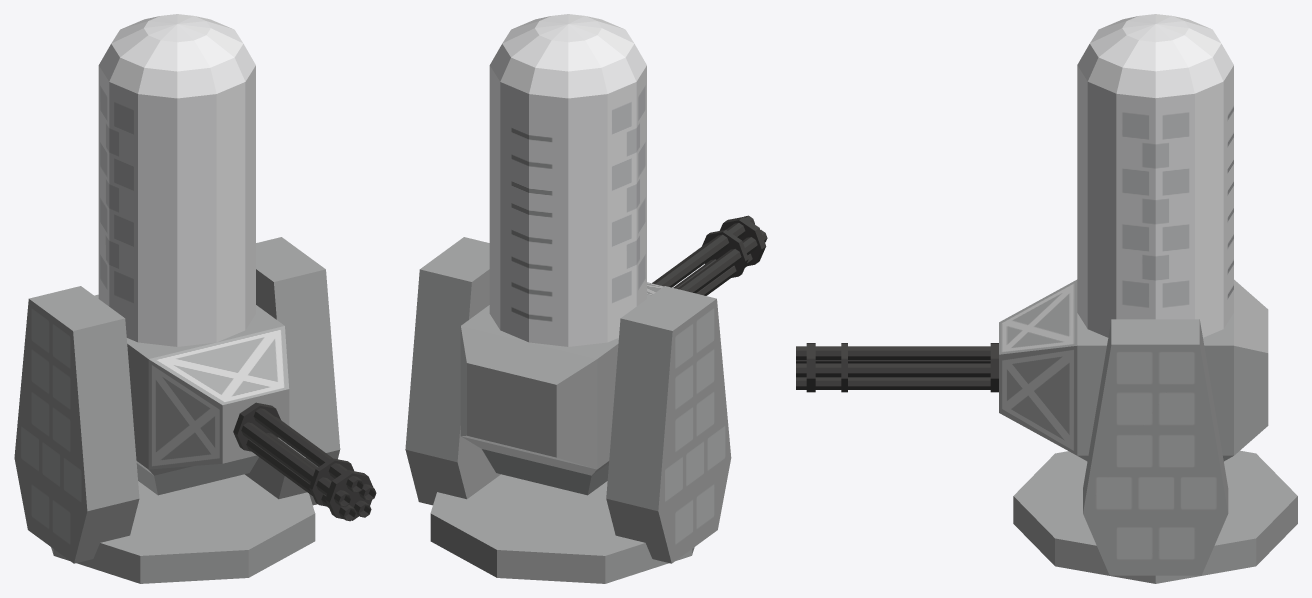
The model's file is Turret_11.fbx.
The picture shows the model from 3 angles, left to right: view 1: azimuth 30°, elevation 25°; view 2: azimuth 150°, elevation 25°; view 3: azimuth 270°, elevation 25°; orthographic projection.
Parts seen in each view (by area): view 1: Turret11_MainGunBody, Turret11_LowerBody, Turret11_MainGun; view 2: Turret11_MainGunBody, Turret11_LowerBody, Turret11_MainGun; view 3: Turret11_MainGunBody, Turret11_LowerBody, Turret11_MainGun.
Boxes of the visible parts, x1,y1,x2,y2 form: Turret11_MainGunBody: (94,14,289,495); Turret11_LowerBody: (14,237,340,583); Turret11_MainGun: (233,402,376,521); Turret11_MainGunBody: (460,14,663,495); Turret11_LowerBody: (405,237,731,583); Turret11_MainGun: (652,215,767,295); Turret11_MainGunBody: (999,14,1268,461); Turret11_LowerBody: (1013,319,1297,583); Turret11_MainGun: (796,343,998,392).
Bounding box in the file's own units: 21.48 × 40.71 × 37.03.
